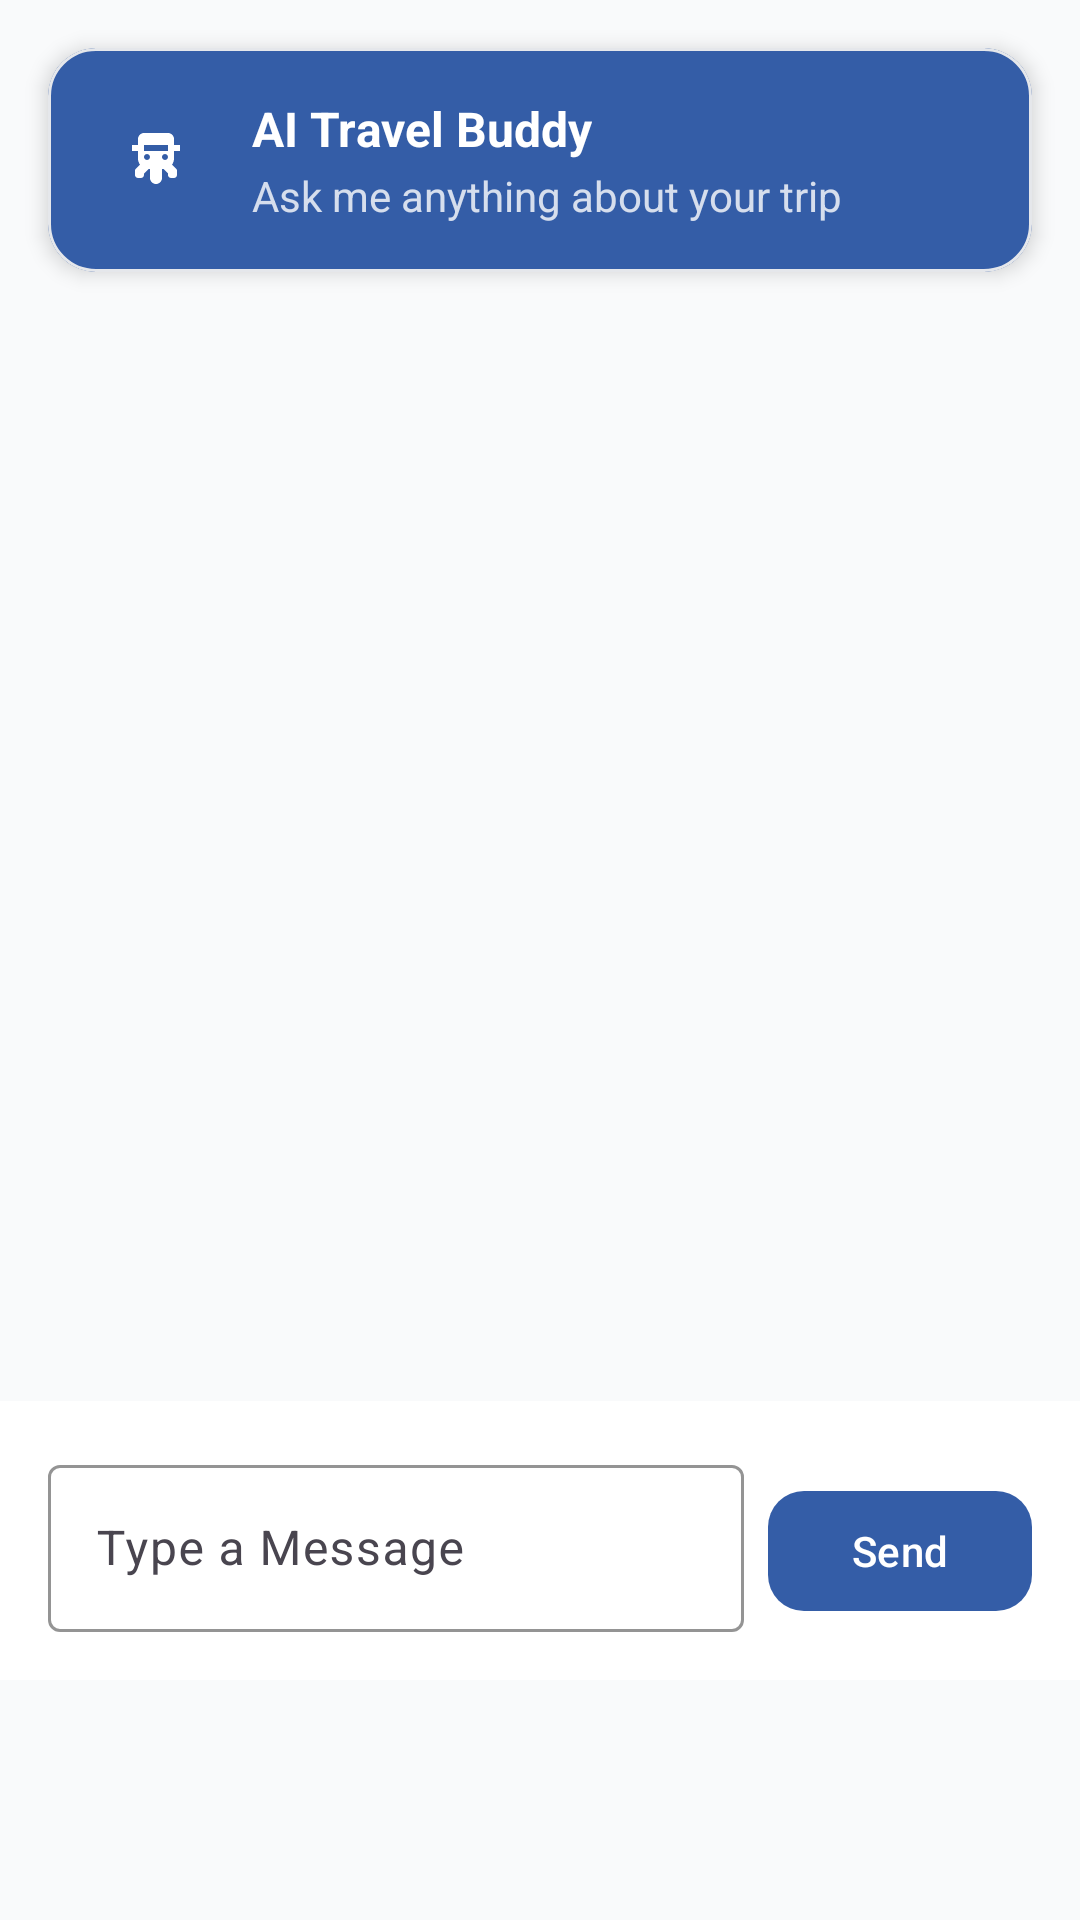

Locate icon controls on the screen. Image size 1080 x 1920, boxes as (x1, y1, x2, y2).
smart toy: (132, 133, 180, 184)
